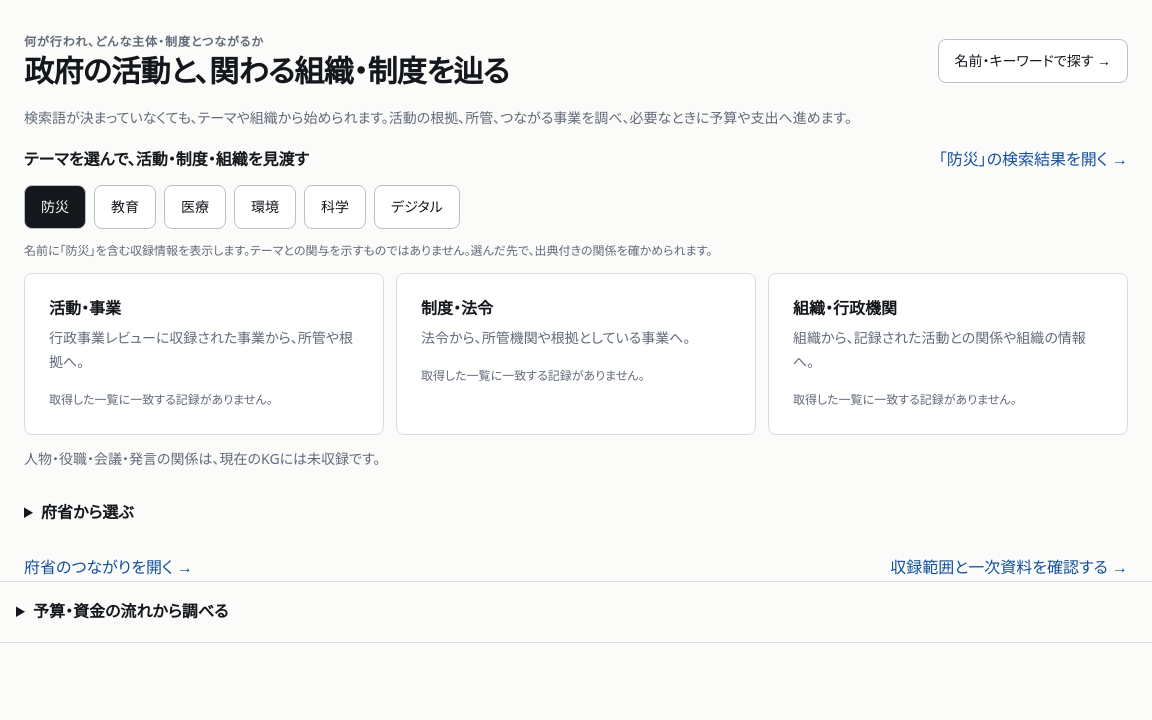
TopPage(トップページ再設計) › 支払先はどこまで特定できているか: enumValueLabelの表示名で4区分を出す(手書きしない)
This screenshot has width=1152, height=720.
Click the heading "予算・資金の流れから調べる" at (131, 611), box x1=0 y1=581 x2=1151 y2=643
(page scrolled)
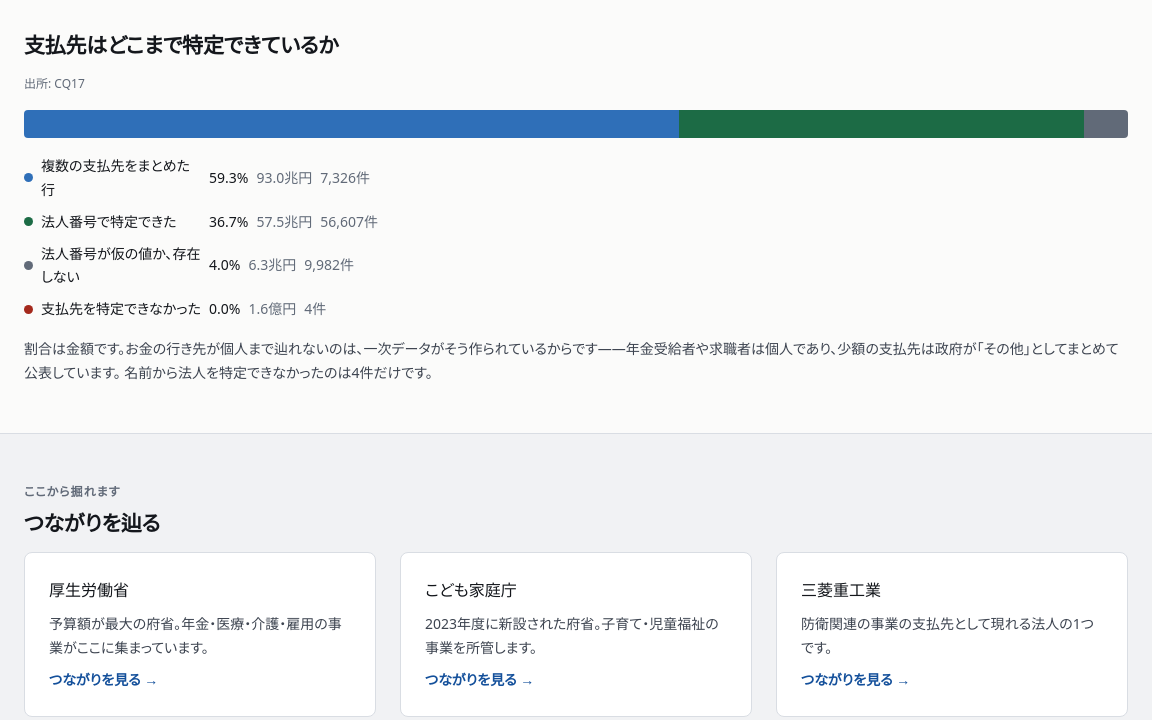
Result: the heading "支払先はどこまで特定できているか" is shown at x1=24 y1=32 x2=338 y2=58
Result: the text "法人番号で特定できた" is shown at x1=41 y1=212 x2=176 y2=231
Result: the text "複数の支払先をまとめた行" is shown at x1=41 y1=154 x2=201 y2=202
